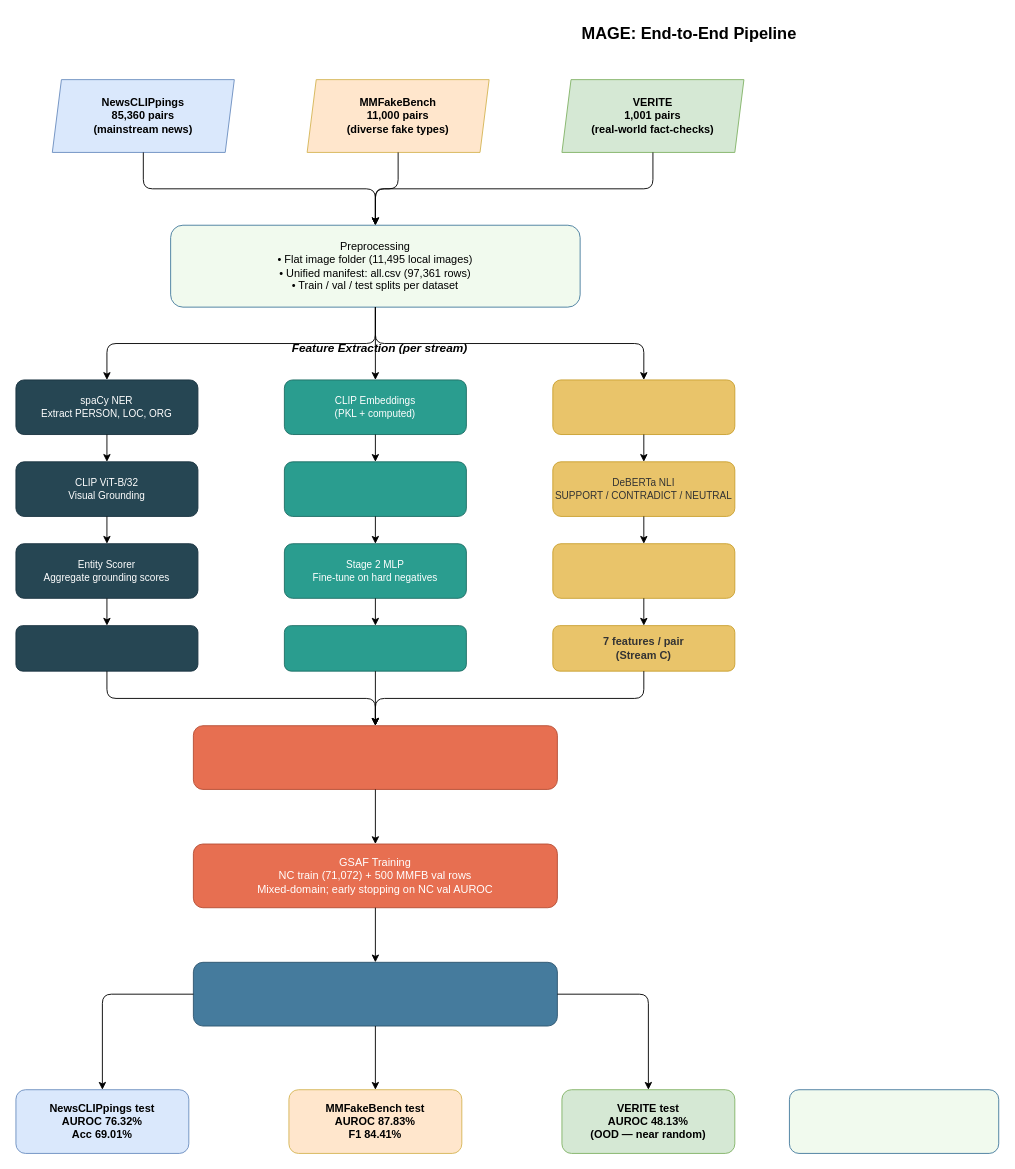
Image size: 1015x1169. Some labels were removed from this diagram. The centre of each missing label's shape, as x and y in pixels:
11 features / pair (Stream B): pixel 374 648
12 features / pair (Stream A): pixel 106 648
Evidence Retrieval (decircularized): pixel 643 407
finalized_outputs/ 15 tables · 28 figures · 4 LaTeX files: pixel 894 1121
Fusion Feature Table fusion_features_all.csv 97,361 rows × 30 columns (12+11+7): pixel 374 757
SBERT Stance Aggregation: pixel 643 570
Stage 1 MLP cosine sim + 10 features: pixel 374 488
Trained GSAF Model fusion_model.pt | 8,164 parameters Best val AUROC: 76.01%: pixel 374 993
